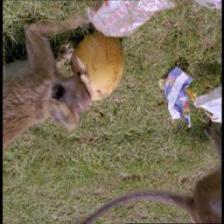monkey: (52, 72, 96, 144)
